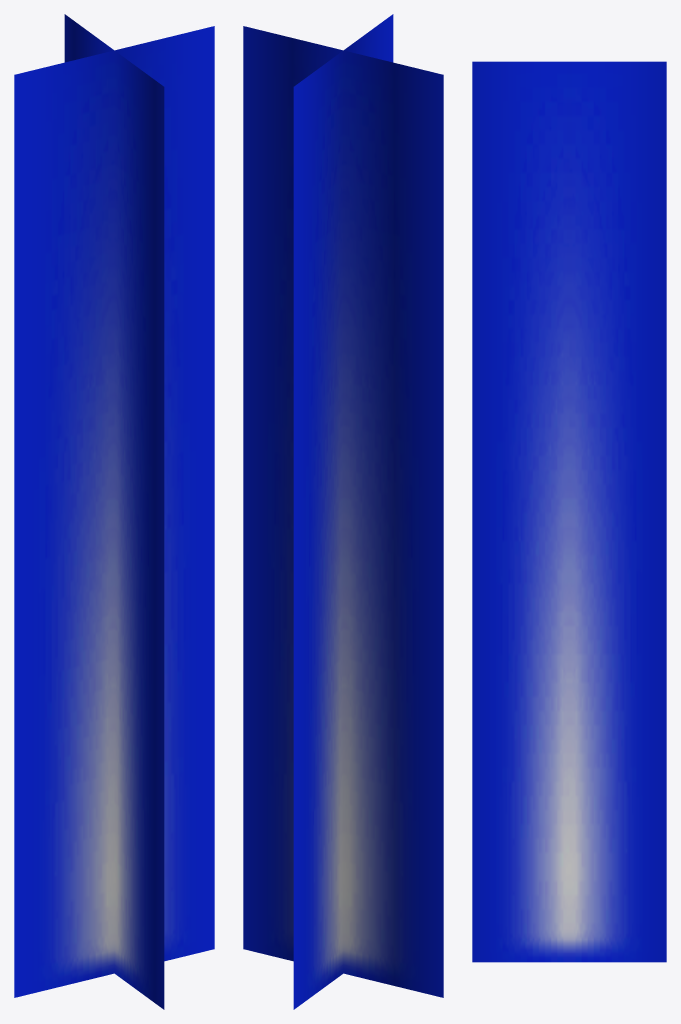
The model's file is flarecrossplane_blue.FBX.
The picture shows the model from 3 angles, left to right: view 1: azimuth 30°, elevation 25°; view 2: azimuth 150°, elevation 25°; view 3: azimuth 270°, elevation 25°; orthographic projection. The views are drawn at different scales.
Visible parts, largest first — view 1: flarecrossplane_blue; view 2: flarecrossplane_blue; view 3: flarecrossplane_blue.
Part boxes in pixels (<box>): flarecrossplane_blue: <box>14,14,214,1009</box>; flarecrossplane_blue: <box>243,14,443,1009</box>; flarecrossplane_blue: <box>472,61,666,962</box>.
Size of the model in its own units: 40 by 176 by 34.4.
1 material, 1 textured.
